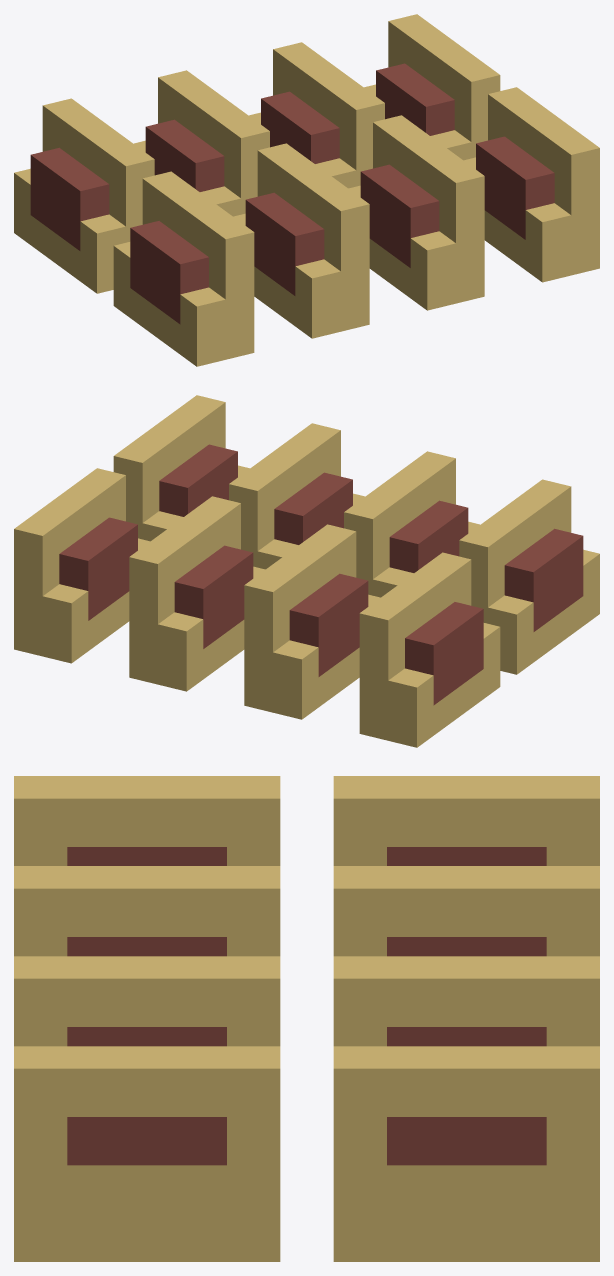
The model's file is food.vox-7-z-donggeurangttaeng.obj.
3 renders of one model, top to bottom at view 1: azimuth 30°, elevation 25°; view 2: azimuth 150°, elevation 25°; view 3: azimuth 270°, elevation 25°, orthographic. The views are drawn at different scales.
Visible parts, largest first — view 1: z-donggeurangttaeng; view 2: z-donggeurangttaeng; view 3: z-donggeurangttaeng.
Boxes of the visible parts, x1,y1,x2,y2 form: z-donggeurangttaeng: (14, 14, 599, 366); z-donggeurangttaeng: (14, 395, 599, 747); z-donggeurangttaeng: (14, 776, 599, 1261).
Bounding box in the file's own units: 1.4 × 0.4 × 1.1.
Materials: 1 (1 with a texture image).
